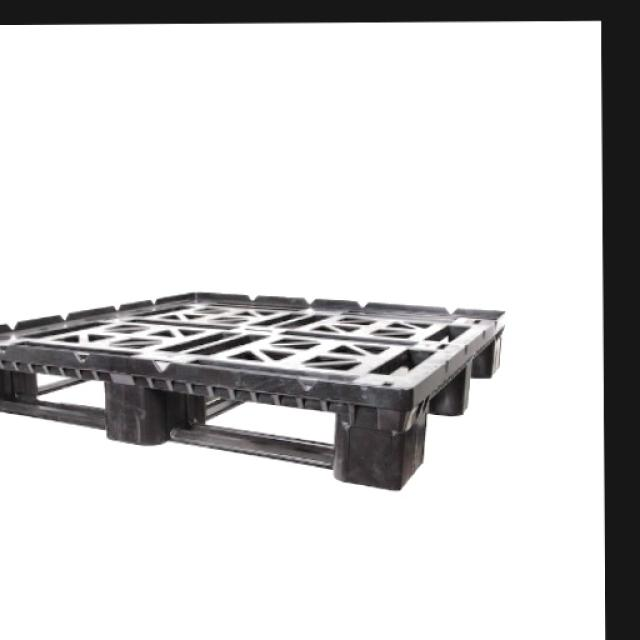non-igps: (0, 278, 511, 501)
